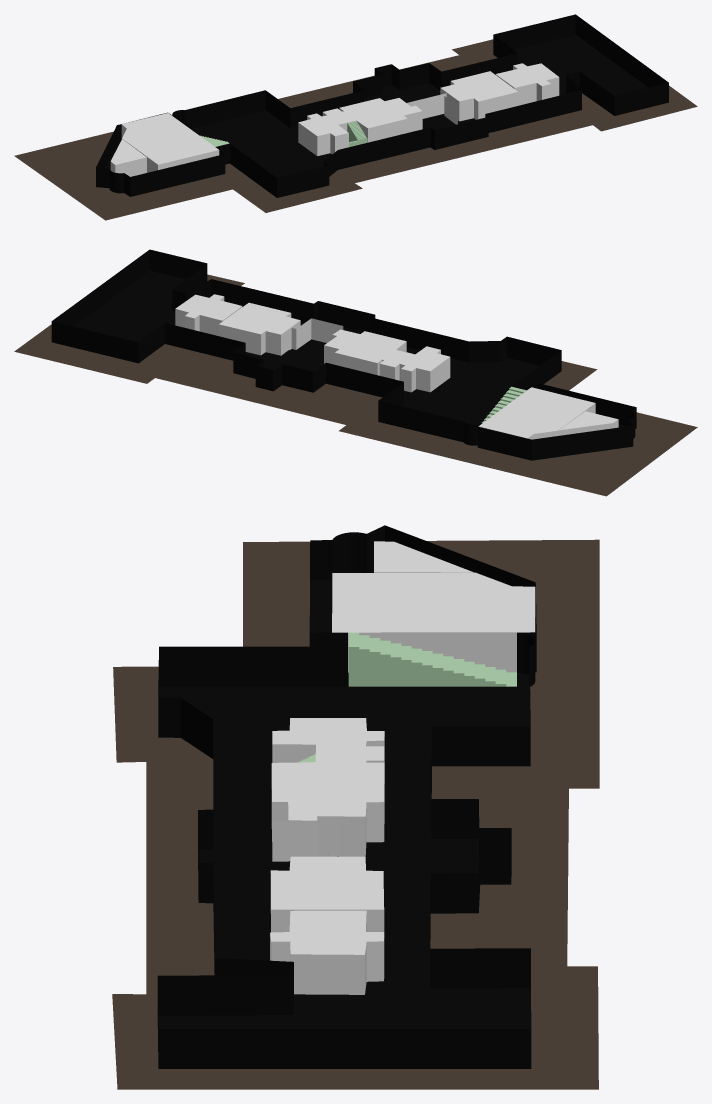
File: attic.glb
3 renders of one model, top to bottom at view 1: azimuth 30°, elevation 25°; view 2: azimuth 150°, elevation 25°; view 3: azimuth 270°, elevation 25°, orthographic. The views are drawn at different scales.
Visible parts, largest first — view 1: outline, Plane.001, city human resource management, multipurpose hall, city mayor office, city assessors office, Plane, center, Cube.002; view 2: outline, Plane.001, city human resource management, multipurpose hall, city mayor office, city assessors office, center, Plane, Cube.001; view 3: outline, Plane.001, multipurpose hall, city human resource management, city assessors office, city mayor office, Cube.001, center, Plane.
Part boxes in pixels (bbox=[...]): outline: bbox=[96, 14, 668, 197]; Plane.001: bbox=[14, 39, 697, 220]; city human resource management: bbox=[298, 98, 422, 156]; multipurpose hall: bbox=[121, 113, 219, 172]; city mayor office: bbox=[440, 71, 518, 121]; city assessors office: bbox=[495, 63, 559, 105]; Plane: bbox=[110, 139, 146, 176]; center: bbox=[407, 93, 457, 124]; Cube.002: bbox=[347, 121, 367, 147]; outline: bbox=[51, 249, 636, 460]; Plane.001: bbox=[14, 274, 697, 496]; city human resource management: bbox=[324, 329, 450, 392]; multipurpose hall: bbox=[478, 387, 595, 439]; city mayor office: bbox=[218, 302, 300, 355]; city assessors office: bbox=[175, 294, 242, 335]; center: bbox=[289, 318, 343, 350]; Plane: bbox=[558, 411, 618, 435]; Cube.001: bbox=[481, 386, 526, 422]; outline: bbox=[157, 525, 536, 1068]; Plane.001: bbox=[112, 539, 599, 1089]; multipurpose hall: bbox=[332, 572, 535, 672]; city human resource management: bbox=[271, 718, 384, 856]; city assessors office: bbox=[270, 910, 384, 994]; city mayor office: bbox=[270, 856, 384, 932]; Cube.001: bbox=[348, 632, 516, 686]; center: bbox=[272, 817, 337, 861]; Plane: bbox=[374, 541, 473, 572].
Bounding box in the file's own units: 4.03 × 0.1444 × 1.51.
